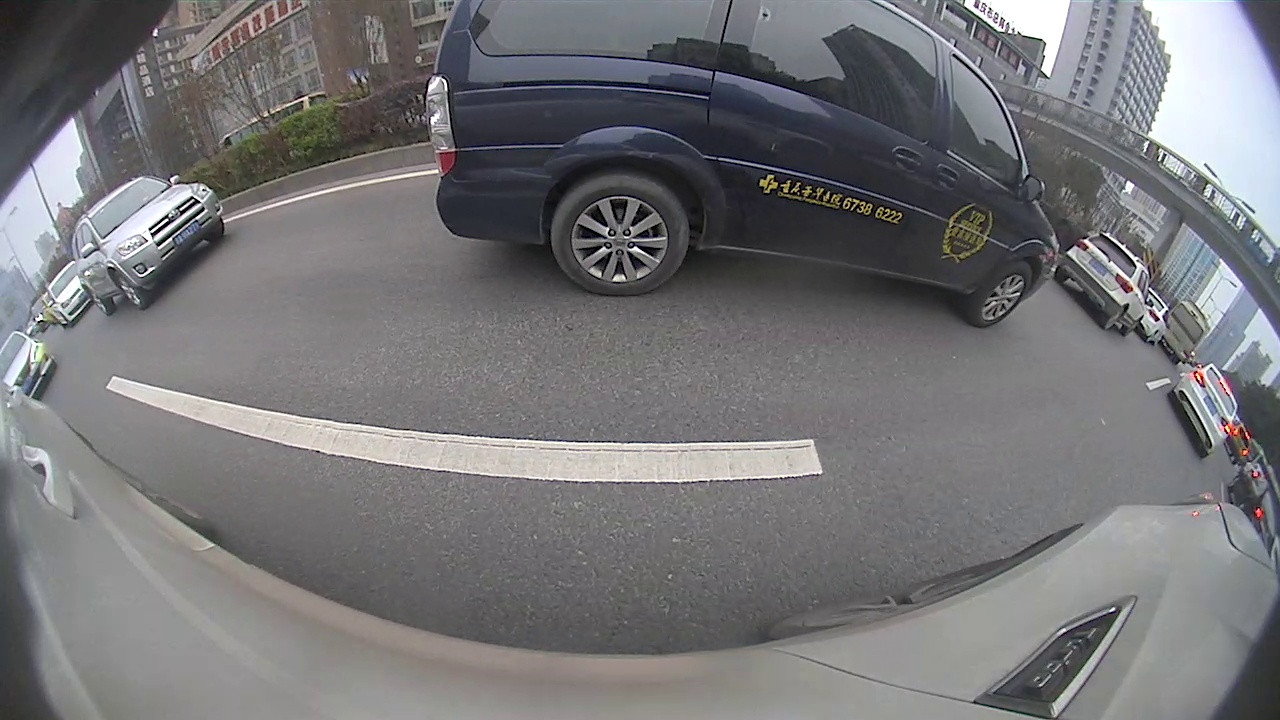car: (424, 1, 1059, 329), (70, 172, 226, 317), (1056, 230, 1151, 339), (1168, 363, 1240, 458)
front: (975, 263, 1037, 325), (108, 269, 147, 310)
rear: (551, 174, 690, 298)
